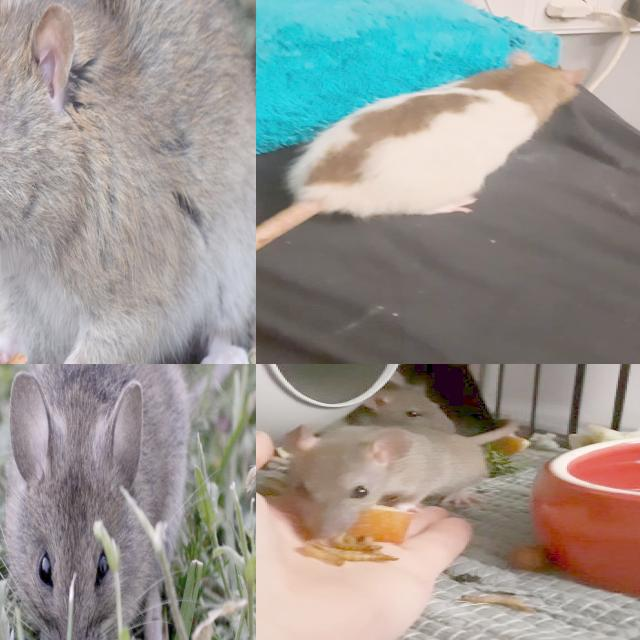rat: (0, 0, 255, 364), (6, 364, 191, 640), (288, 49, 593, 216), (283, 425, 490, 550), (350, 383, 459, 430)
